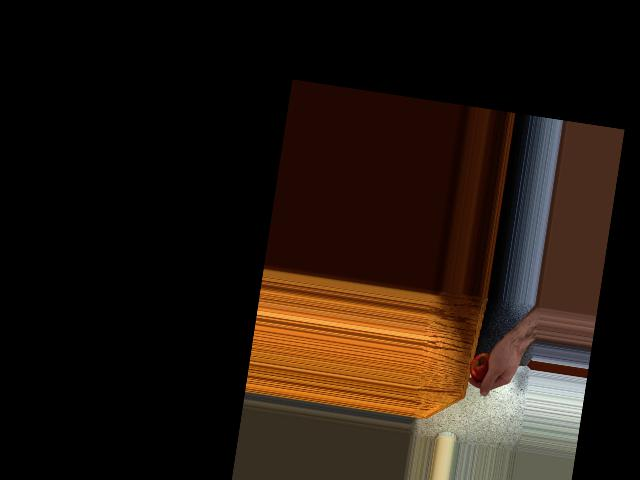apple: (467, 350, 499, 384)
